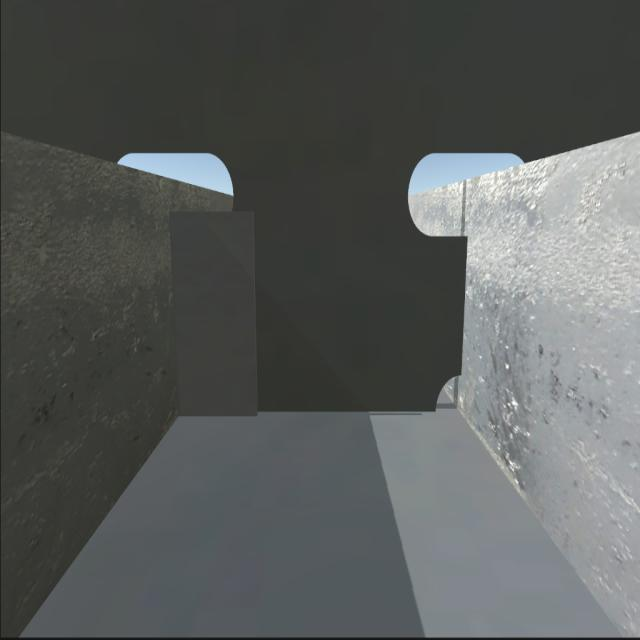fillet_hole: (429, 366, 464, 418)
fillet_yong_jeop_jang: (174, 398, 436, 421)
longi_yong_jeop_jang: (166, 215, 182, 424), (456, 236, 472, 377)
plate_CP01: (174, 211, 260, 419)
